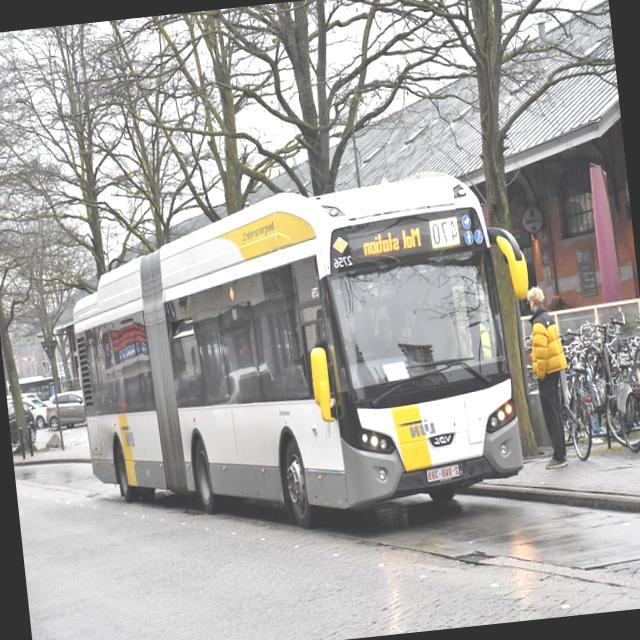bus-number: (428, 216, 459, 248)
